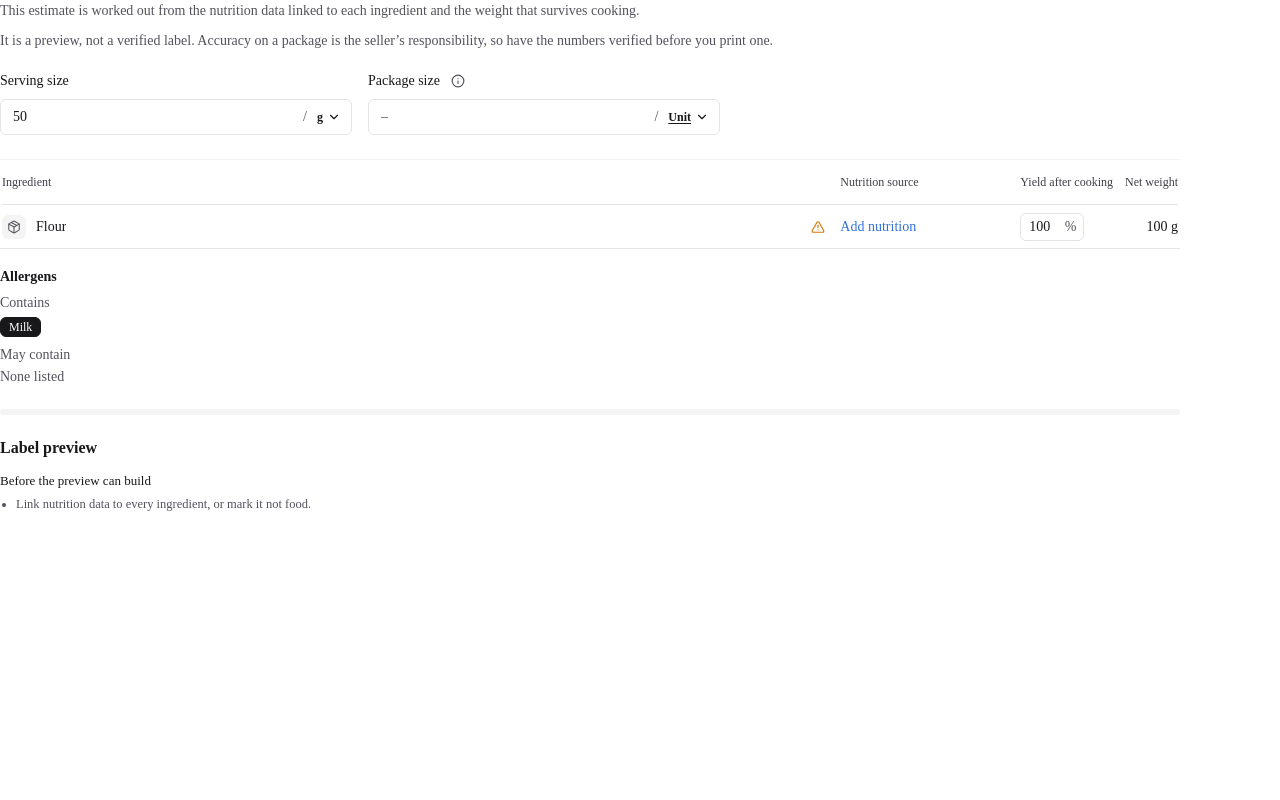
Test: recipe nutrition view › opens the line dialog from Add nutrition
The width and height of the screenshot is (1280, 800).
Click the button "Add nutrition".
click(878, 227)  # box left=840, top=219, right=916, bottom=235
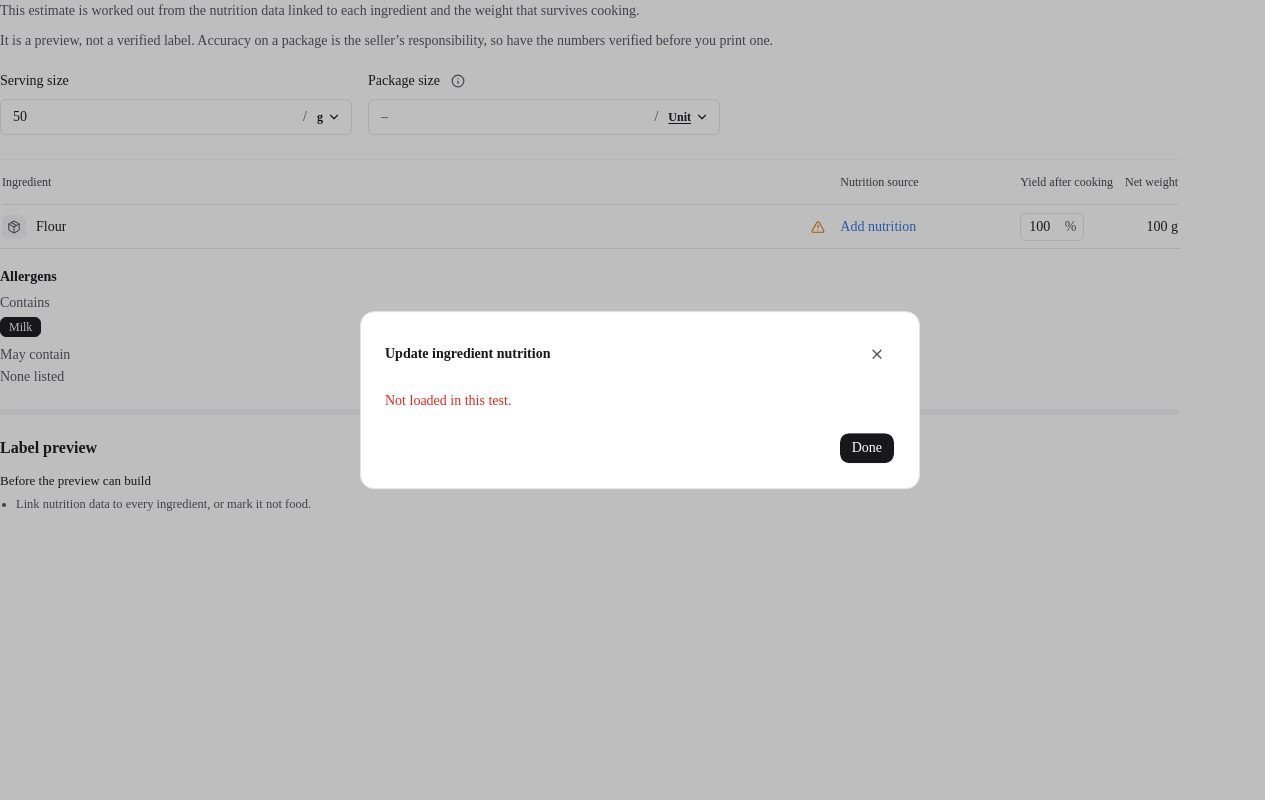
Expected: the dialog is shown, left=360, top=311, right=920, bottom=489
Expected: the heading "Update ingredient nutrition" is shown, left=385, top=346, right=550, bottom=361
